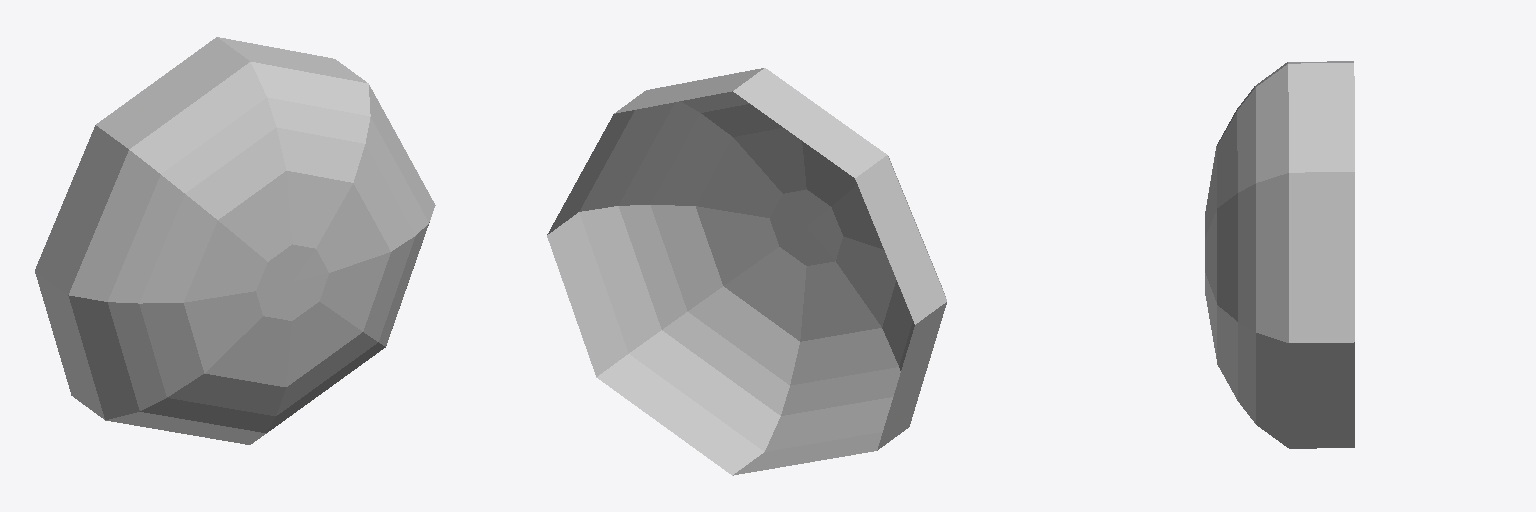
File: przelacznikDetector.obj
3 views of the same model, side by side, from view 1: azimuth 30°, elevation 25°; view 2: azimuth 150°, elevation 25°; view 3: azimuth 270°, elevation 25° (orthographic).
Parts seen in each view (by area): view 1: przelacznik_Cube.001; view 2: przelacznik_Cube.001; view 3: przelacznik_Cube.001.
Boxes of the visible parts, x1,y1,x2,y2 form: przelacznik_Cube.001: [35, 37, 435, 444]; przelacznik_Cube.001: [547, 68, 946, 475]; przelacznik_Cube.001: [1205, 61, 1354, 448].
Size of the model in its own units: 0.3323 by 0.3316 by 0.1177.